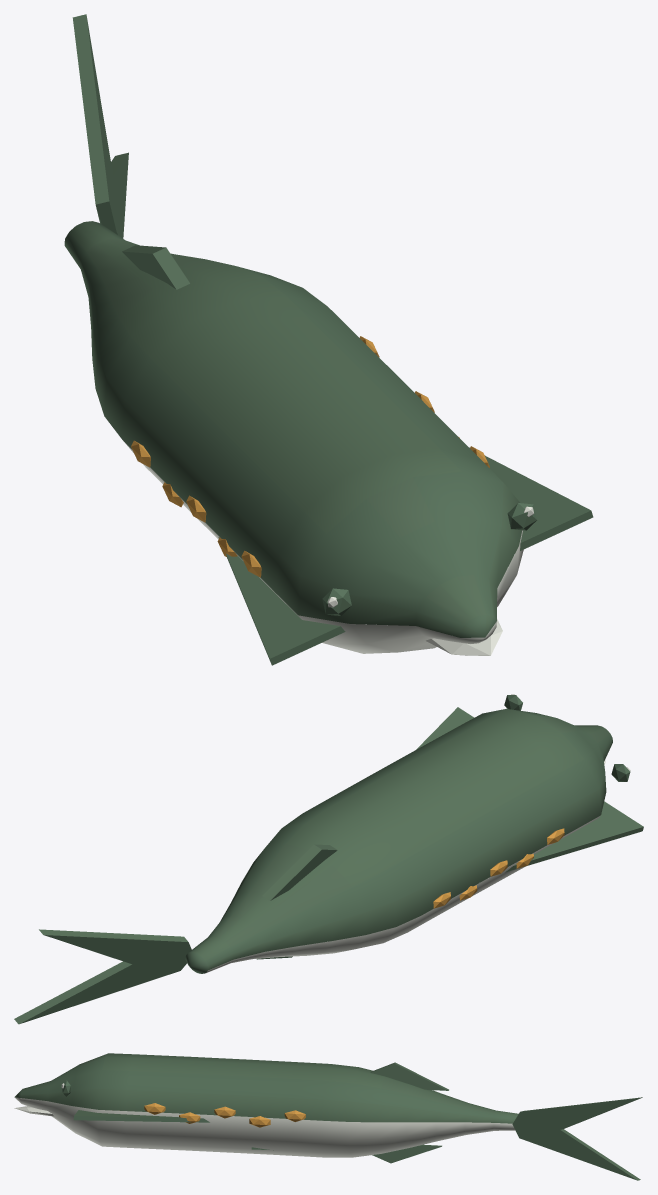
Rendered from fish_pike_a.glb.
The picture shows the model from 3 angles, top to bottom: view 1: azimuth 30°, elevation 25°; view 2: azimuth 150°, elevation 25°; view 3: azimuth 270°, elevation 25°; orthographic projection. The views are drawn at different scales.
Parts seen in each view (by area): view 1: pike_anal_fin, pike_body, pike_tail, pike_gill_plate_left; view 2: pike_anal_fin, pike_tail, pike_body, pike_gill_plate_left; view 3: pike_anal_fin, pike_body, pike_tail, pike_gill_plate_left.
Boxes of the visible parts, x1,y1,x2,y2 form: pike_anal_fin: (64,221,593,665); pike_body: (123,441,533,655); pike_tail: (72,14,128,238); pike_gill_plate_left: (131,336,489,577); pike_anal_fin: (185,695,643,973); pike_tail: (14,929,191,1024); pike_body: (206,694,630,972); pike_gill_plate_left: (433,828,564,908); pike_anal_fin: (14,1053,518,1163); pike_body: (14,1083,515,1157); pike_tail: (512,1097,642,1180); pike_gill_plate_left: (144,1103,305,1127).
Bounding box in the file's own units: 0.574 × 0.2629 × 1.56.
